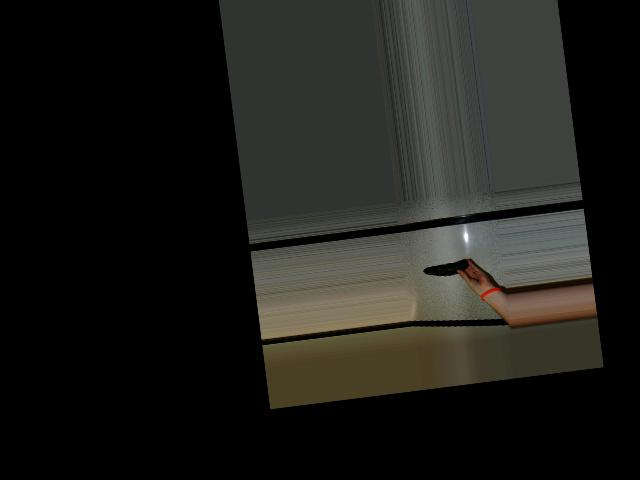cucumber: (422, 258, 470, 277)
